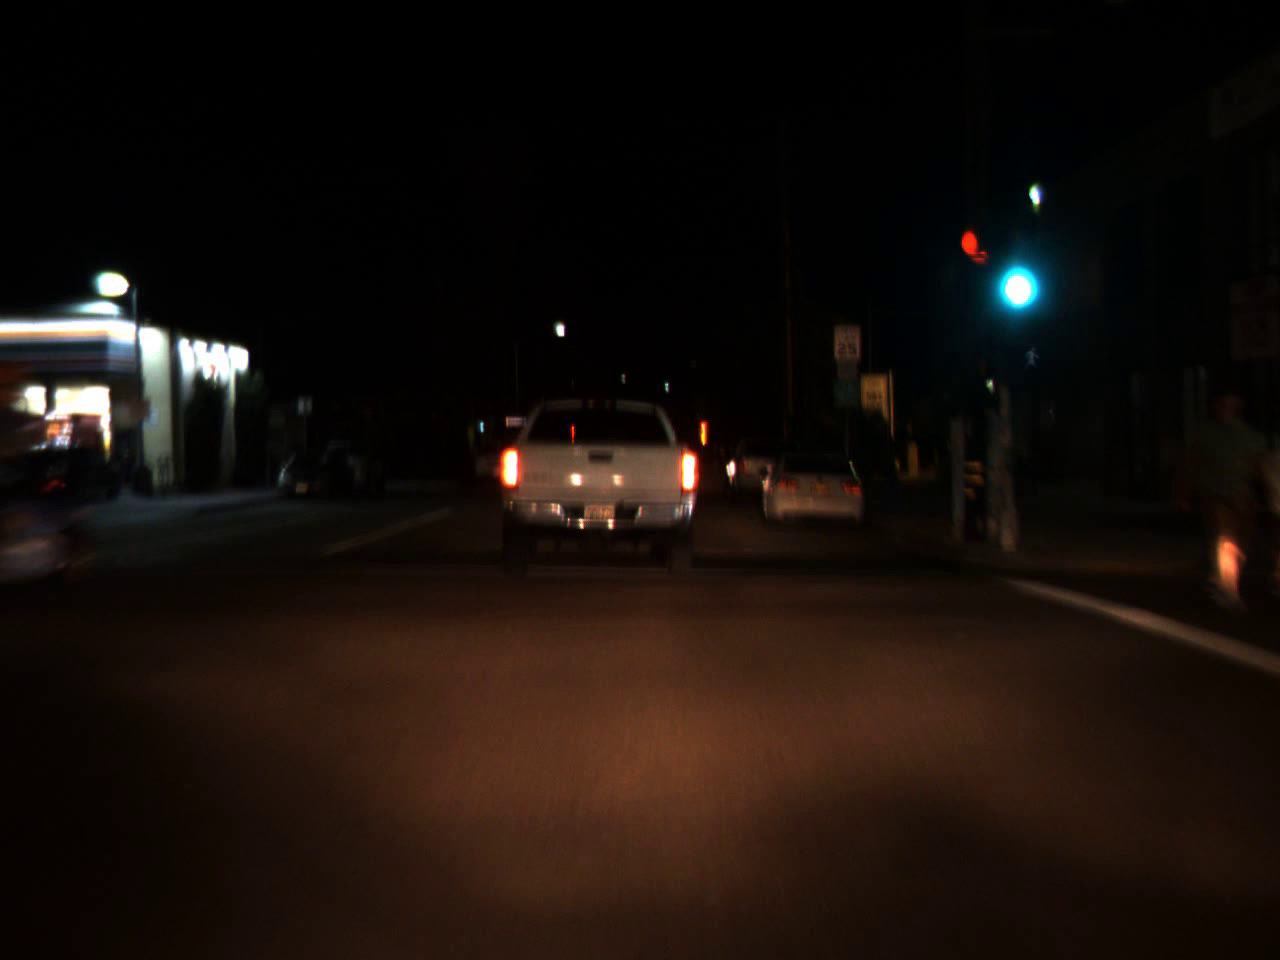go: (994, 234, 1037, 318)
stop: (697, 418, 710, 447)
